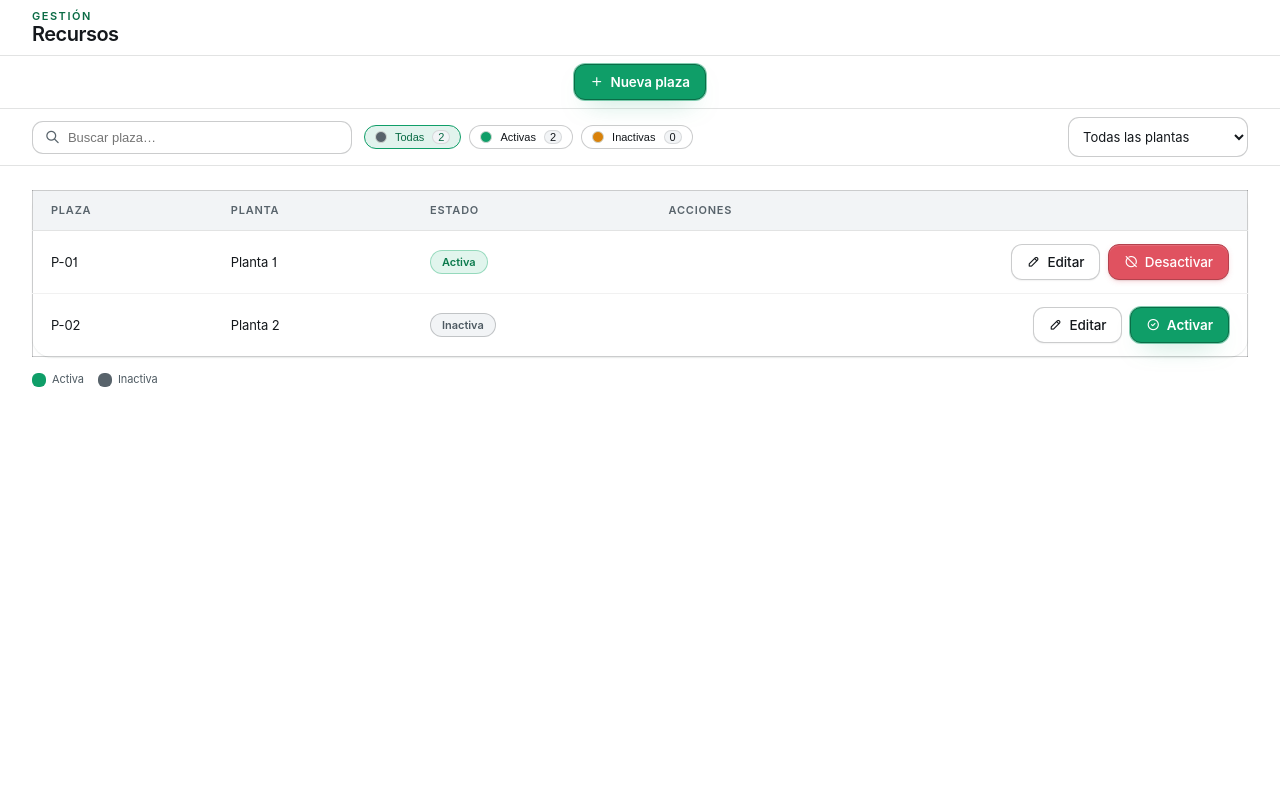
Test: ParkingSpacesPage › should_open_edit_form_prefilled_when_clicking_edit
Check: the text "P-01" is shown, box [51, 254, 78, 270]
What coordinates should you click on to do the following:
click the button "Editar" in the row of "P-01"
I would click on:
 (1056, 262)
Its box is [1011, 244, 1100, 280].
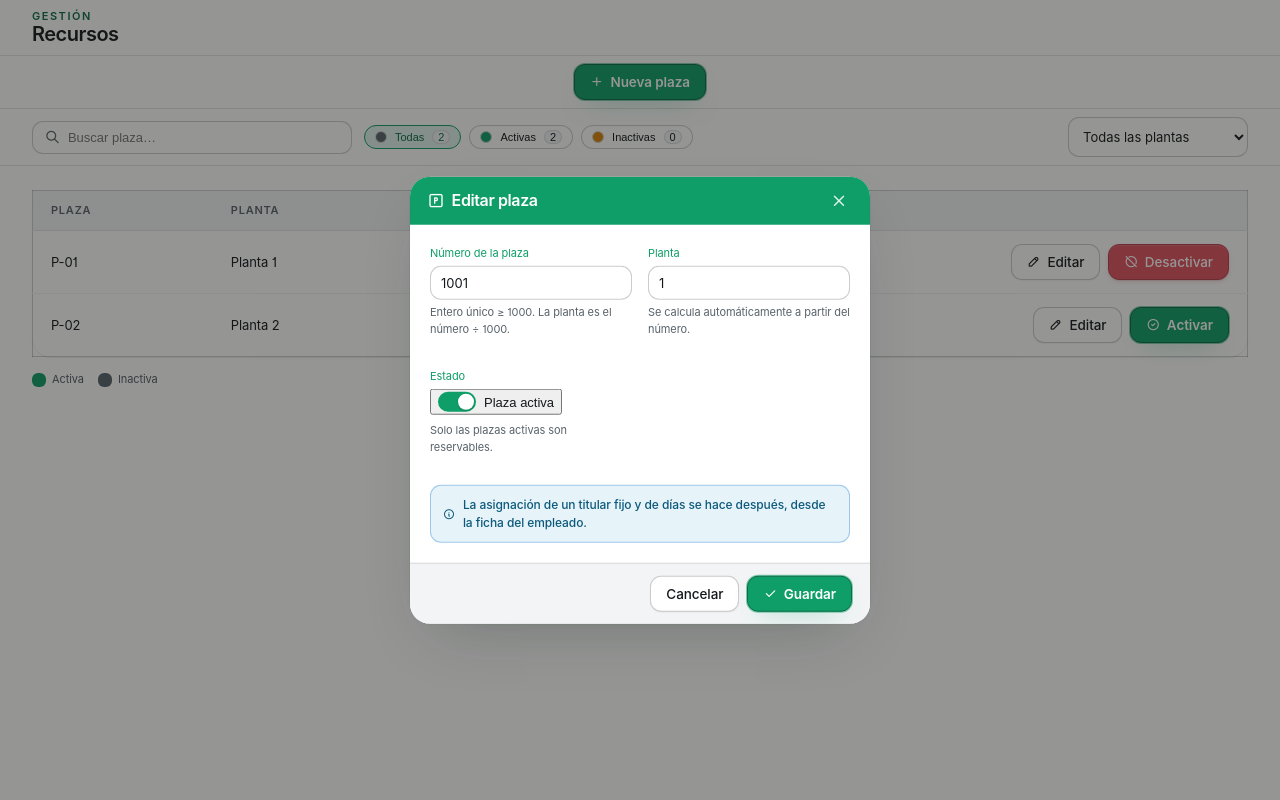
Check: the heading "Editar plaza" is shown, box [428, 192, 538, 210]
Check: the number field labelled "Número de la plaza" holds "1001", box [430, 266, 632, 300]
